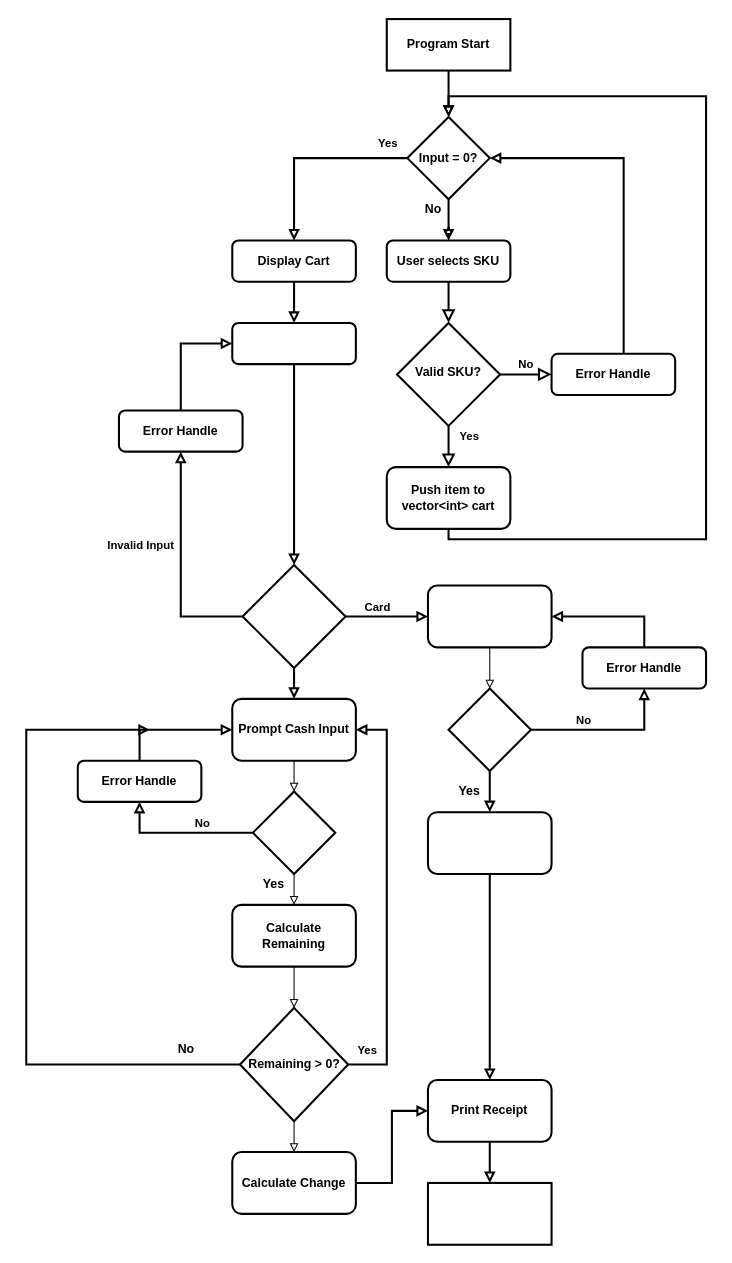
The diagram is 732 pixels wide and 1263 high, and some of its shapes have lost their labels. Each missing label, with the centre of its shape:
"Authorize Transaction" goes at (x=489, y=842).
"Cash or Card?" goes at (x=293, y=615).
"End Program" goes at (x=489, y=1213).
"Payment Select" goes at (x=293, y=343).
"Prompt Card #" goes at (x=489, y=616).
"Valid #?" goes at (x=489, y=729).
"Valid Input?" goes at (x=293, y=832).
